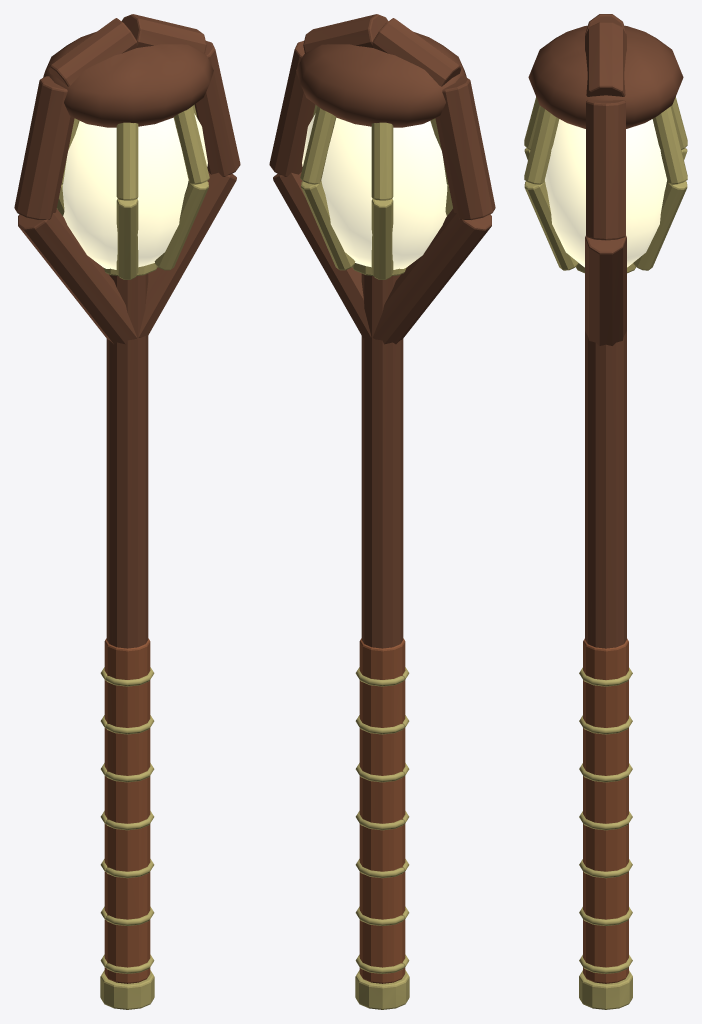
Rendered from item_035.glb.
3 renders of one model, left to right at view 1: azimuth 30°, elevation 25°; view 2: azimuth 150°, elevation 25°; view 3: azimuth 270°, elevation 25°, orthographic.
Parts seen in each view (by area): view 1: Item_035_acorn_lantern; view 2: Item_035_acorn_lantern; view 3: Item_035_acorn_lantern.
Boxes of the visible parts, bbox=[...] form: Item_035_acorn_lantern: bbox=[14, 14, 240, 1009]; Item_035_acorn_lantern: bbox=[269, 14, 495, 1009]; Item_035_acorn_lantern: bbox=[524, 14, 687, 1009].
Bounding box in the file's own units: 0.4269 × 1.81 × 0.2743.
